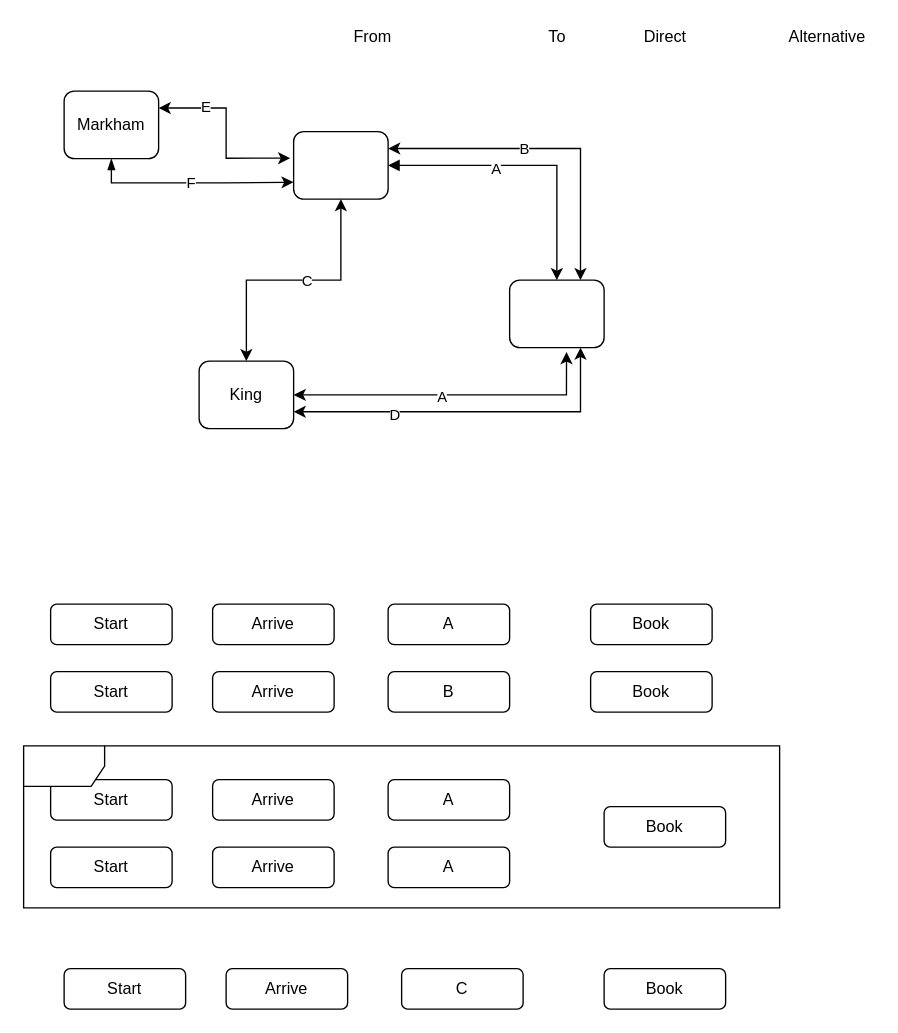
This 898x1033 diagram has some shape labels left out. The shapes that lost their labels are listed below. From the top down, each one's centre as x and y in pixels, then its label:
At point 340,164: "Newnham".
At point 556,313: "York".
At point 401,826: "frame".
